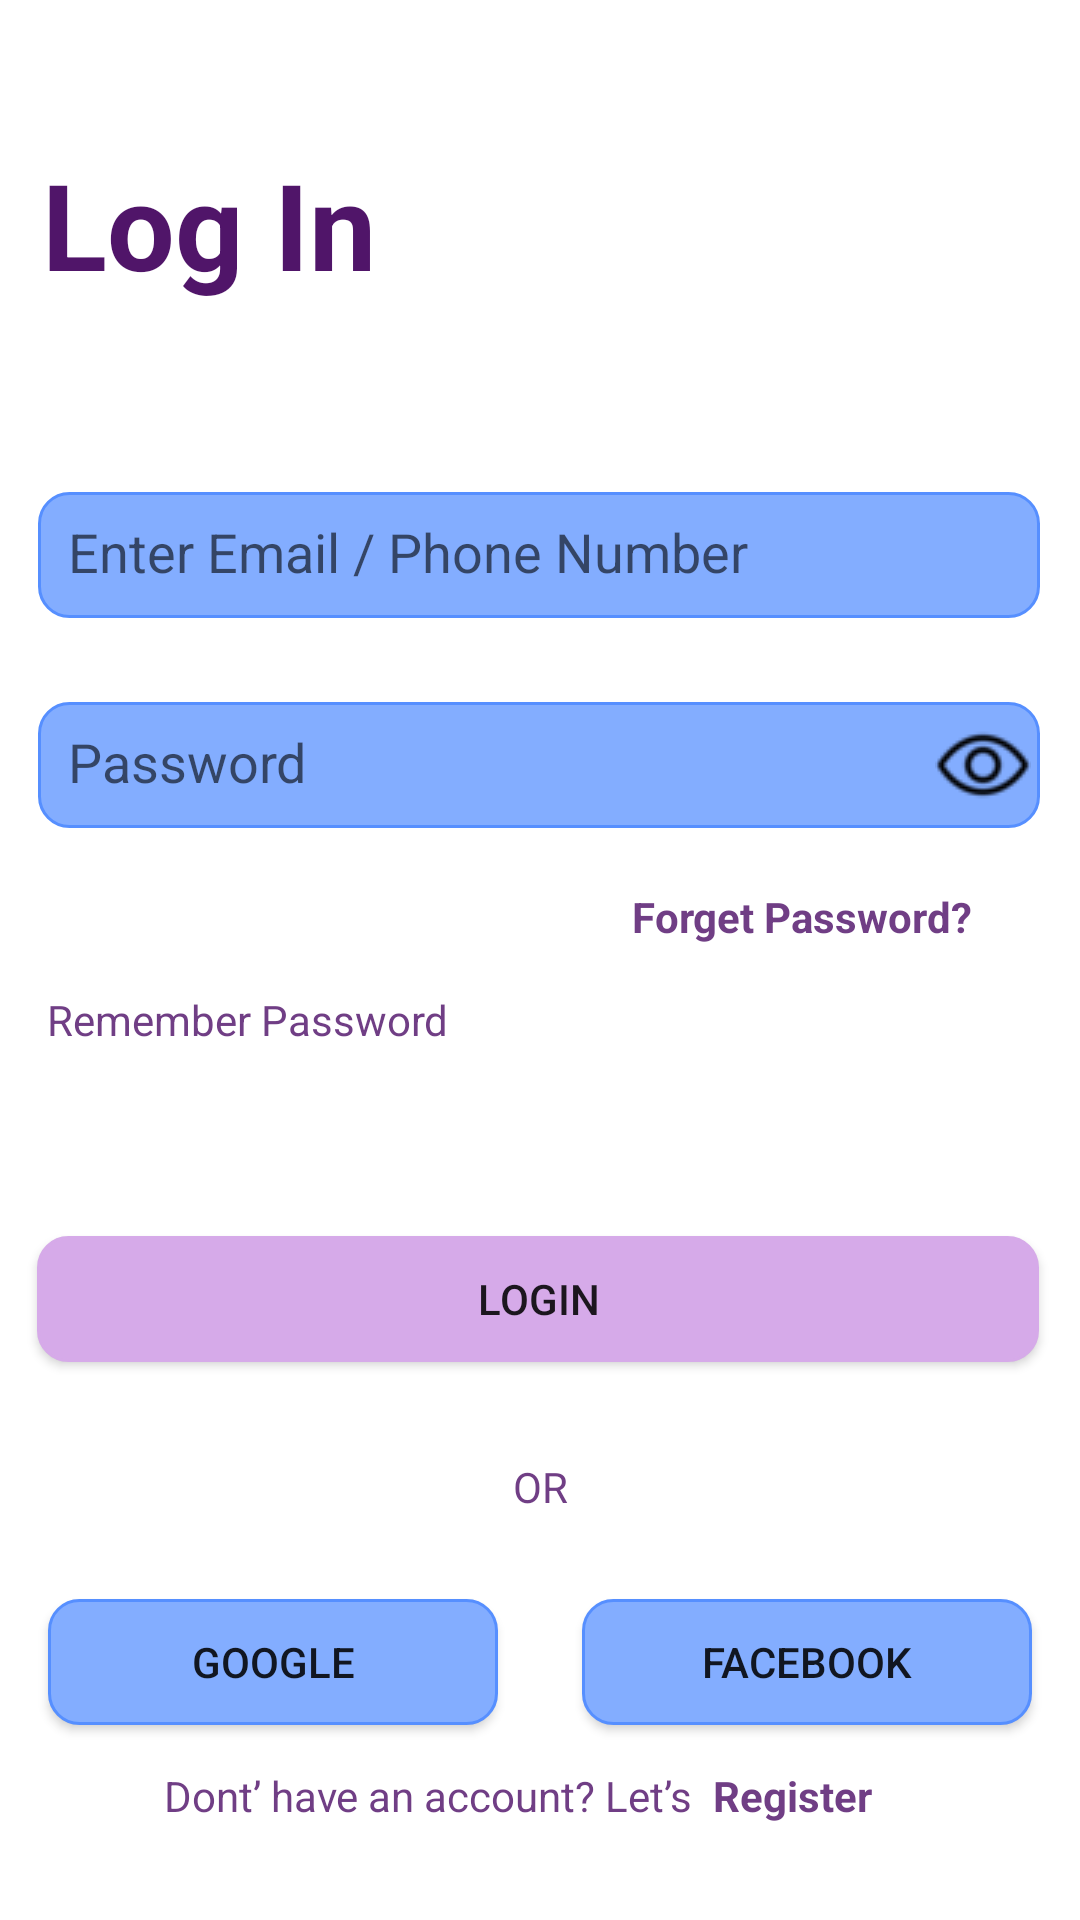

Icon bounding boxes for this 1080px×1920px phone screenshot, format Rect(x1, y1, x2, y2):
eye: Rect(935, 702, 1040, 828)
